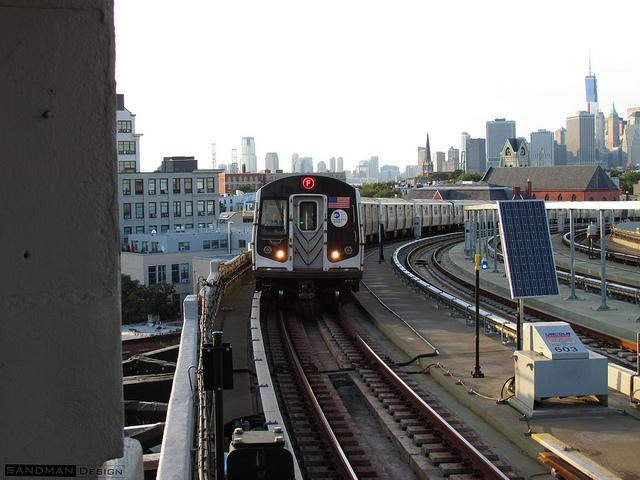Train: (251, 174, 640, 317)
